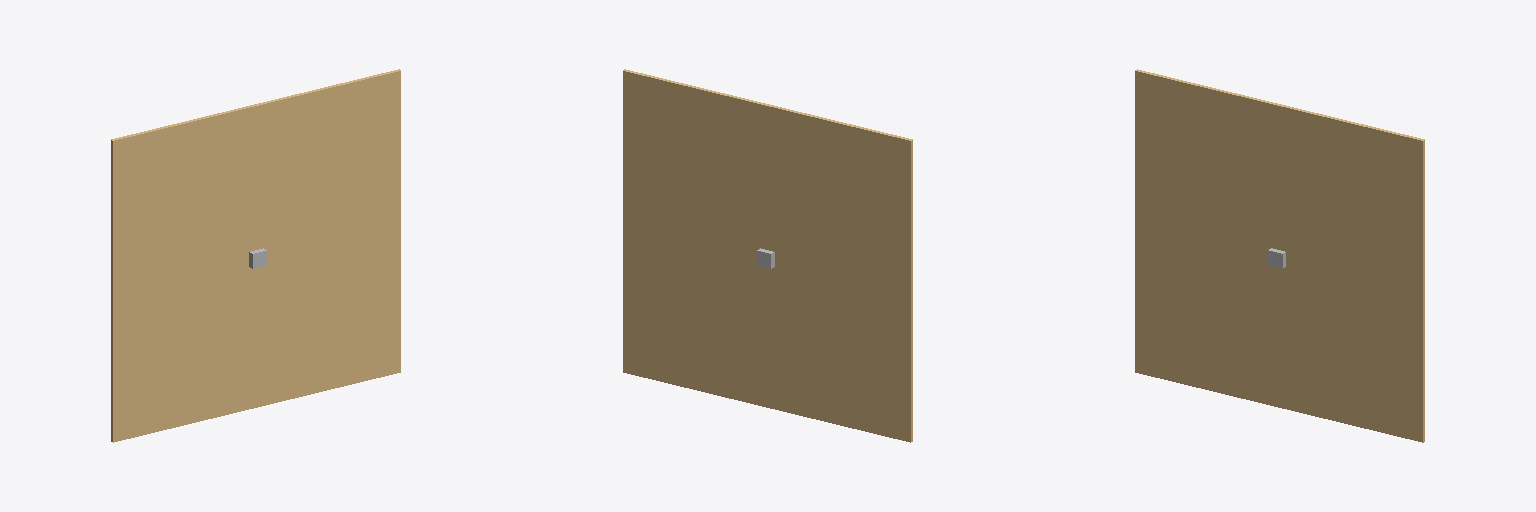
The model's file is wall.obj.
3 views of the same model, side by side, from view 1: azimuth 30°, elevation 25°; view 2: azimuth 150°, elevation 25°; view 3: azimuth 330°, elevation 25° (orthographic).
Visible parts, largest first — view 1: Tray_Cube; view 2: Tray_Cube; view 3: Tray_Cube.
Boxes of the visible parts, x1,y1,x2,y2 form: Tray_Cube: [111, 69, 400, 442]; Tray_Cube: [623, 69, 912, 442]; Tray_Cube: [1135, 69, 1424, 442].
Bounding box in the file's own units: 40.03 × 40 × 2.